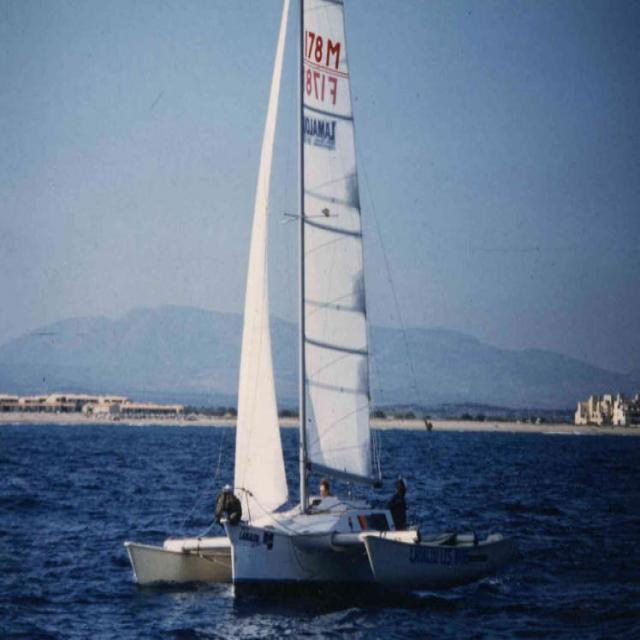Ship: (123, 2, 523, 592)
